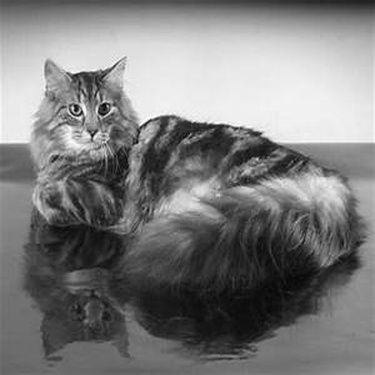cat: (5, 66, 360, 293)
